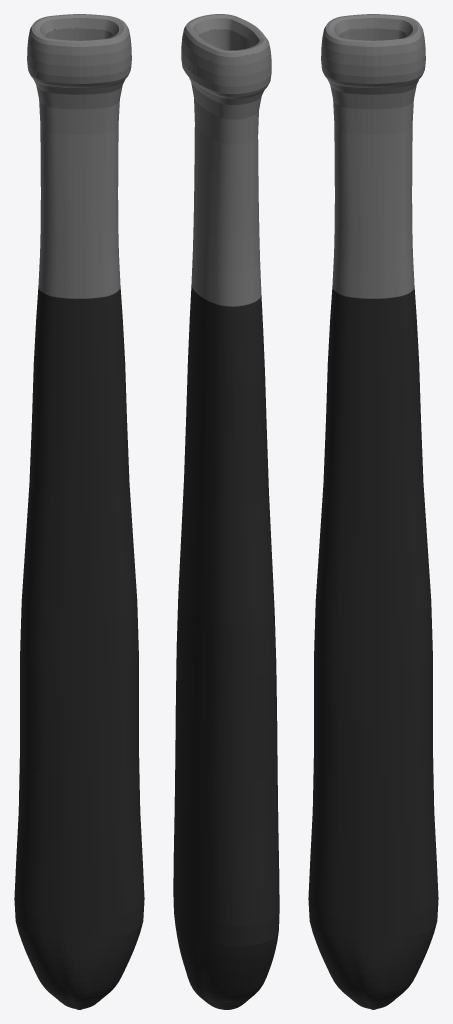
File: Tubo Deforme 4(ESCALADO).fbx
3 views of the same model, side by side, from view 1: azimuth 90°, elevation 25°; view 2: azimuth 210°, elevation 25°; view 3: azimuth 270°, elevation 25° (orthographic).
Parts seen in each view (by area): view 1: Tubo_Deformado_4; view 2: Tubo_Deformado_4; view 3: Tubo_Deformado_4.
Boxes of the visible parts, bbox=[...] form: Tubo_Deformado_4: bbox=[14, 14, 144, 1009]; Tubo_Deformado_4: bbox=[173, 14, 279, 1009]; Tubo_Deformado_4: bbox=[308, 14, 438, 1009].
Bounding box in the file's own units: 0.0302 × 0.3568 × 0.043.
